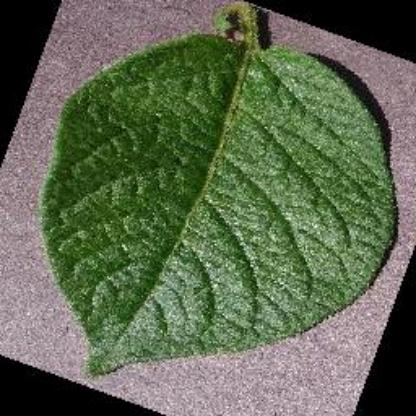Healthy-plant: (40, 26, 406, 374)
